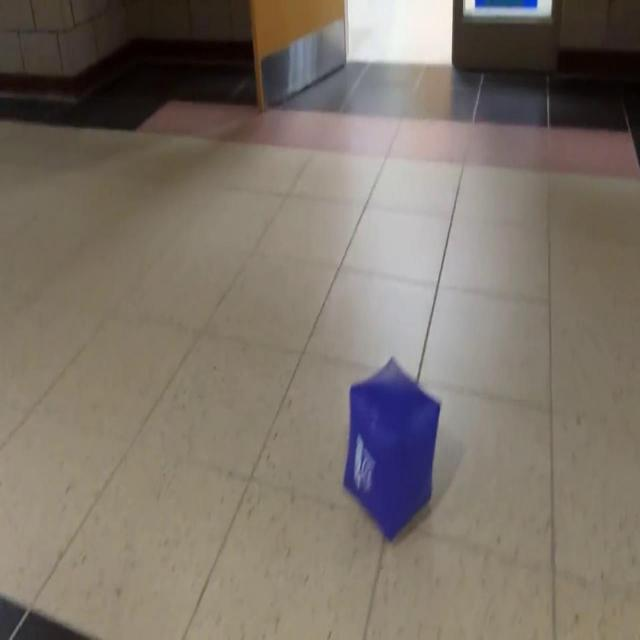frc_cube: (341, 353, 439, 543)
